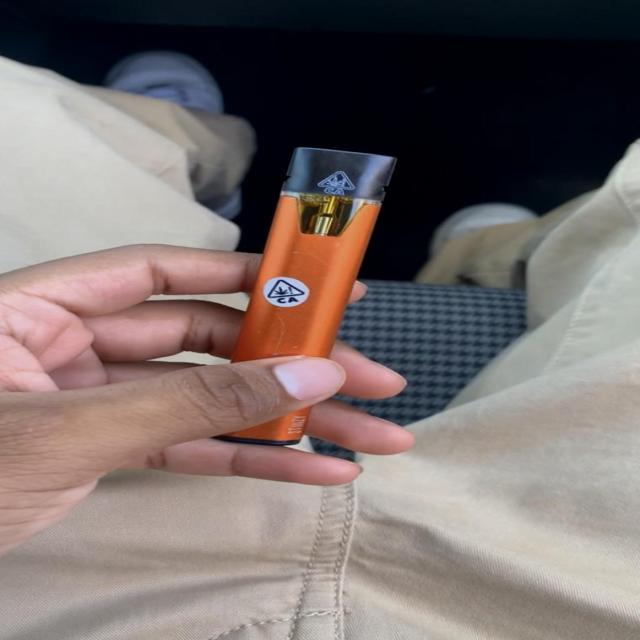Hazard: (205, 144, 402, 442)
